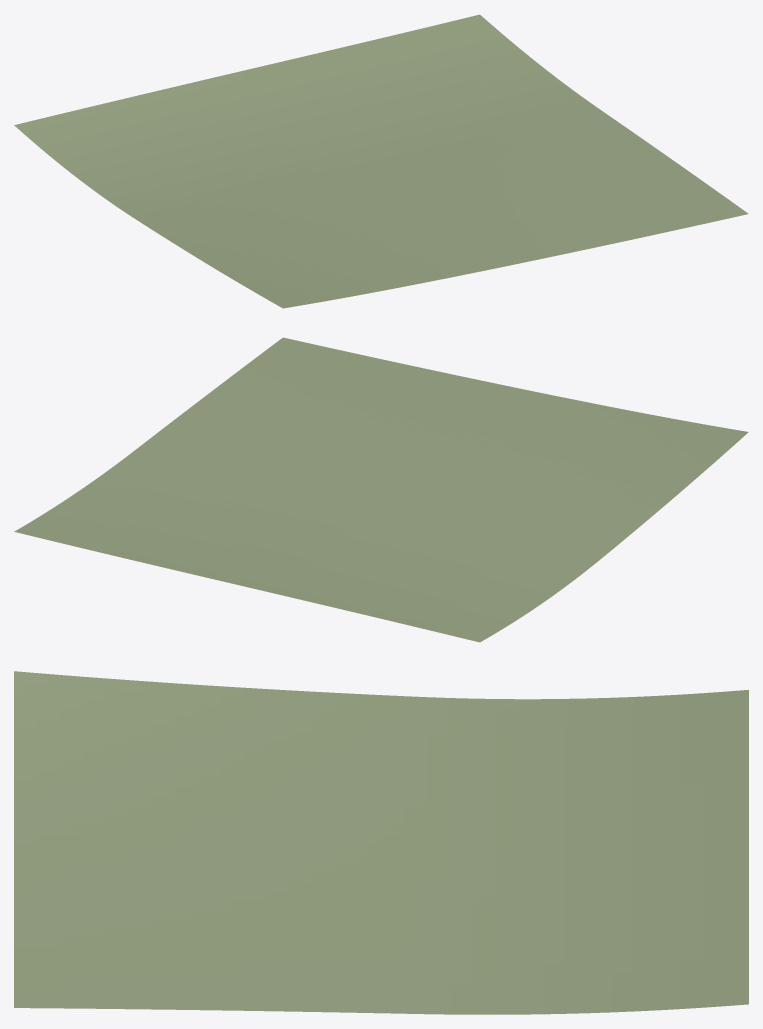
Rendered from expanse-30-21.glb.
3 views of the same model, one above another, from view 1: azimuth 30°, elevation 25°; view 2: azimuth 150°, elevation 25°; view 3: azimuth 270°, elevation 25° (orthographic). The views are drawn at different scales.
Visible parts, largest first — view 1: expanse-30-21; view 2: expanse-30-21; view 3: expanse-30-21.
Part boxes in pixels (box(x1,y1,x2,y2)): expanse-30-21: box(14, 14, 748, 308); expanse-30-21: box(14, 337, 748, 642); expanse-30-21: box(14, 671, 748, 1014).
Size of the model in its own units: 256 by 12.67 by 256.
